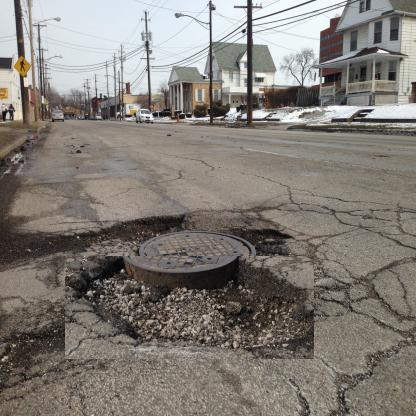pothole: (64, 256, 314, 360), (80, 209, 191, 246)
